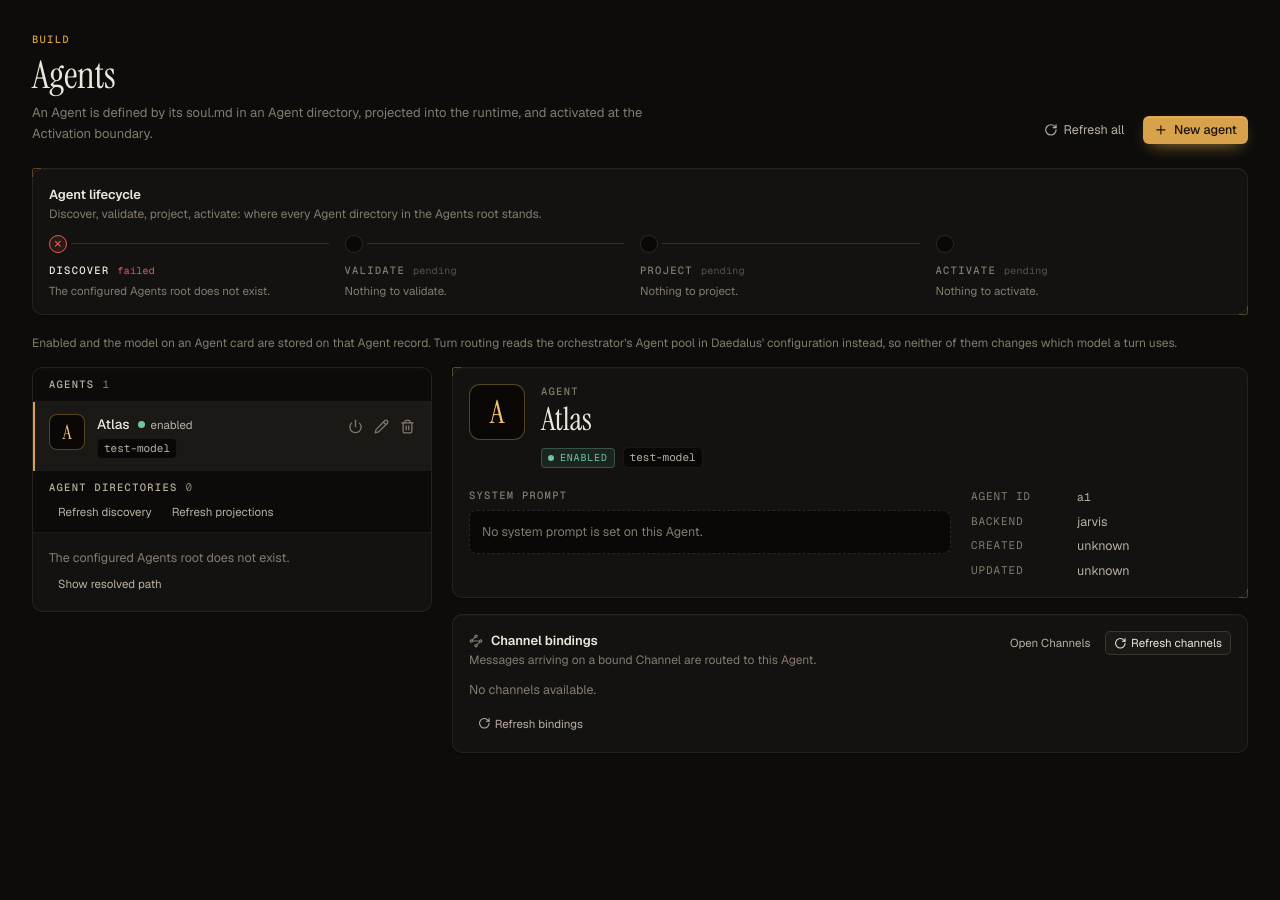
it: Agent lifecycle discovery › names a non-ok root verdict from the object response and hides the resolved path until asked
Check: the text "The configured Agents root does not exist." below "failed" is shown, box [49, 283, 270, 298]
Check: the text "private-root" is not shown
# The path is the operator's, shown only through an explicit action.
Step 1. Click the button "Show resolved path" → click(110, 584), box [49, 572, 171, 596]
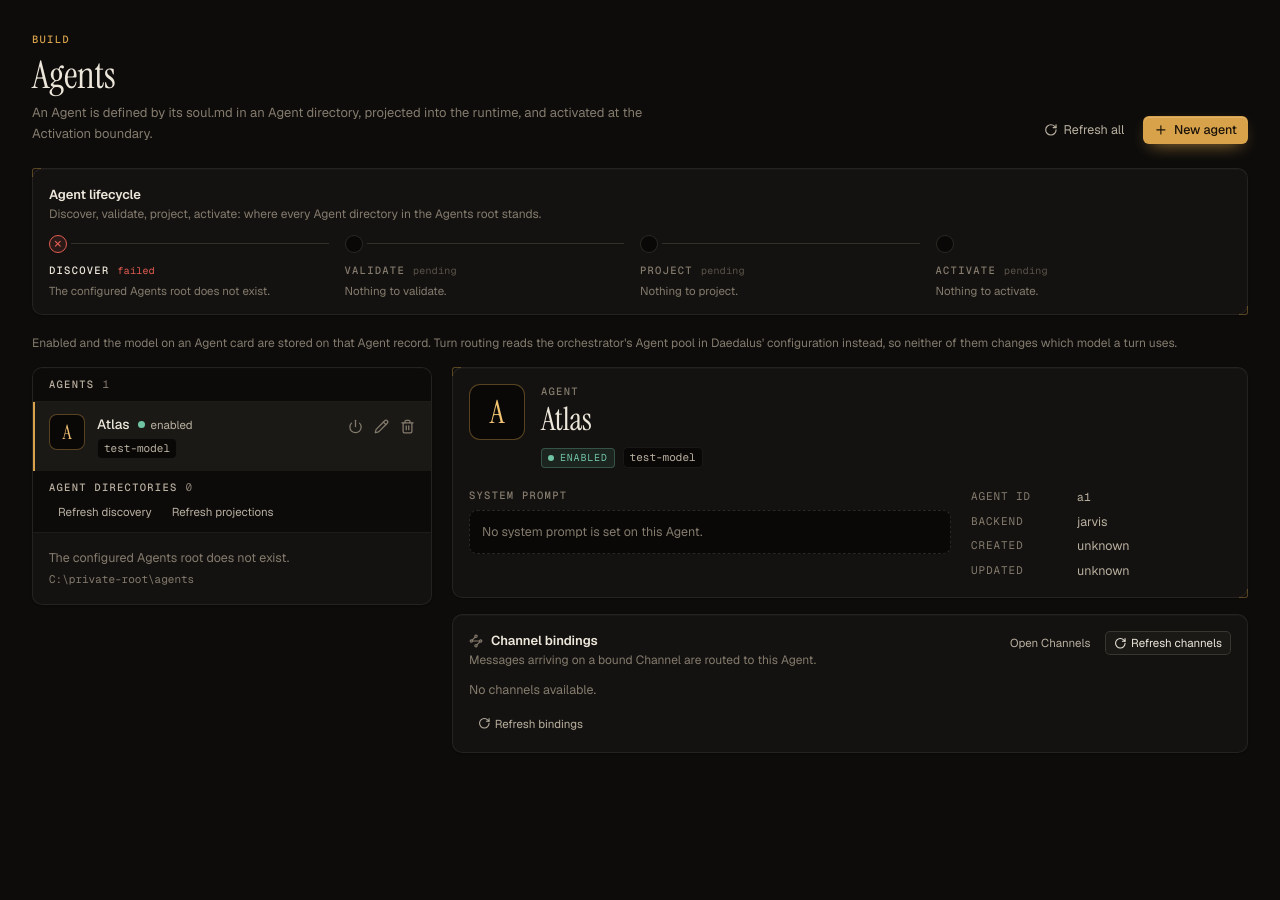
Check: the text "C:\\private-root\\agents" is shown, box [49, 572, 194, 588]
